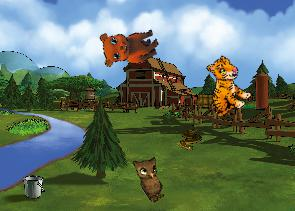bear: (94, 15, 163, 74)
owl: (127, 150, 176, 204)
tiger: (190, 52, 258, 122)
